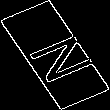N_NE: (15, 25, 95, 85)
